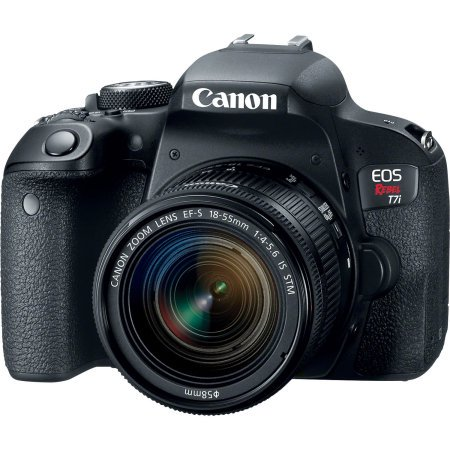kamera: (1, 28, 450, 419)
